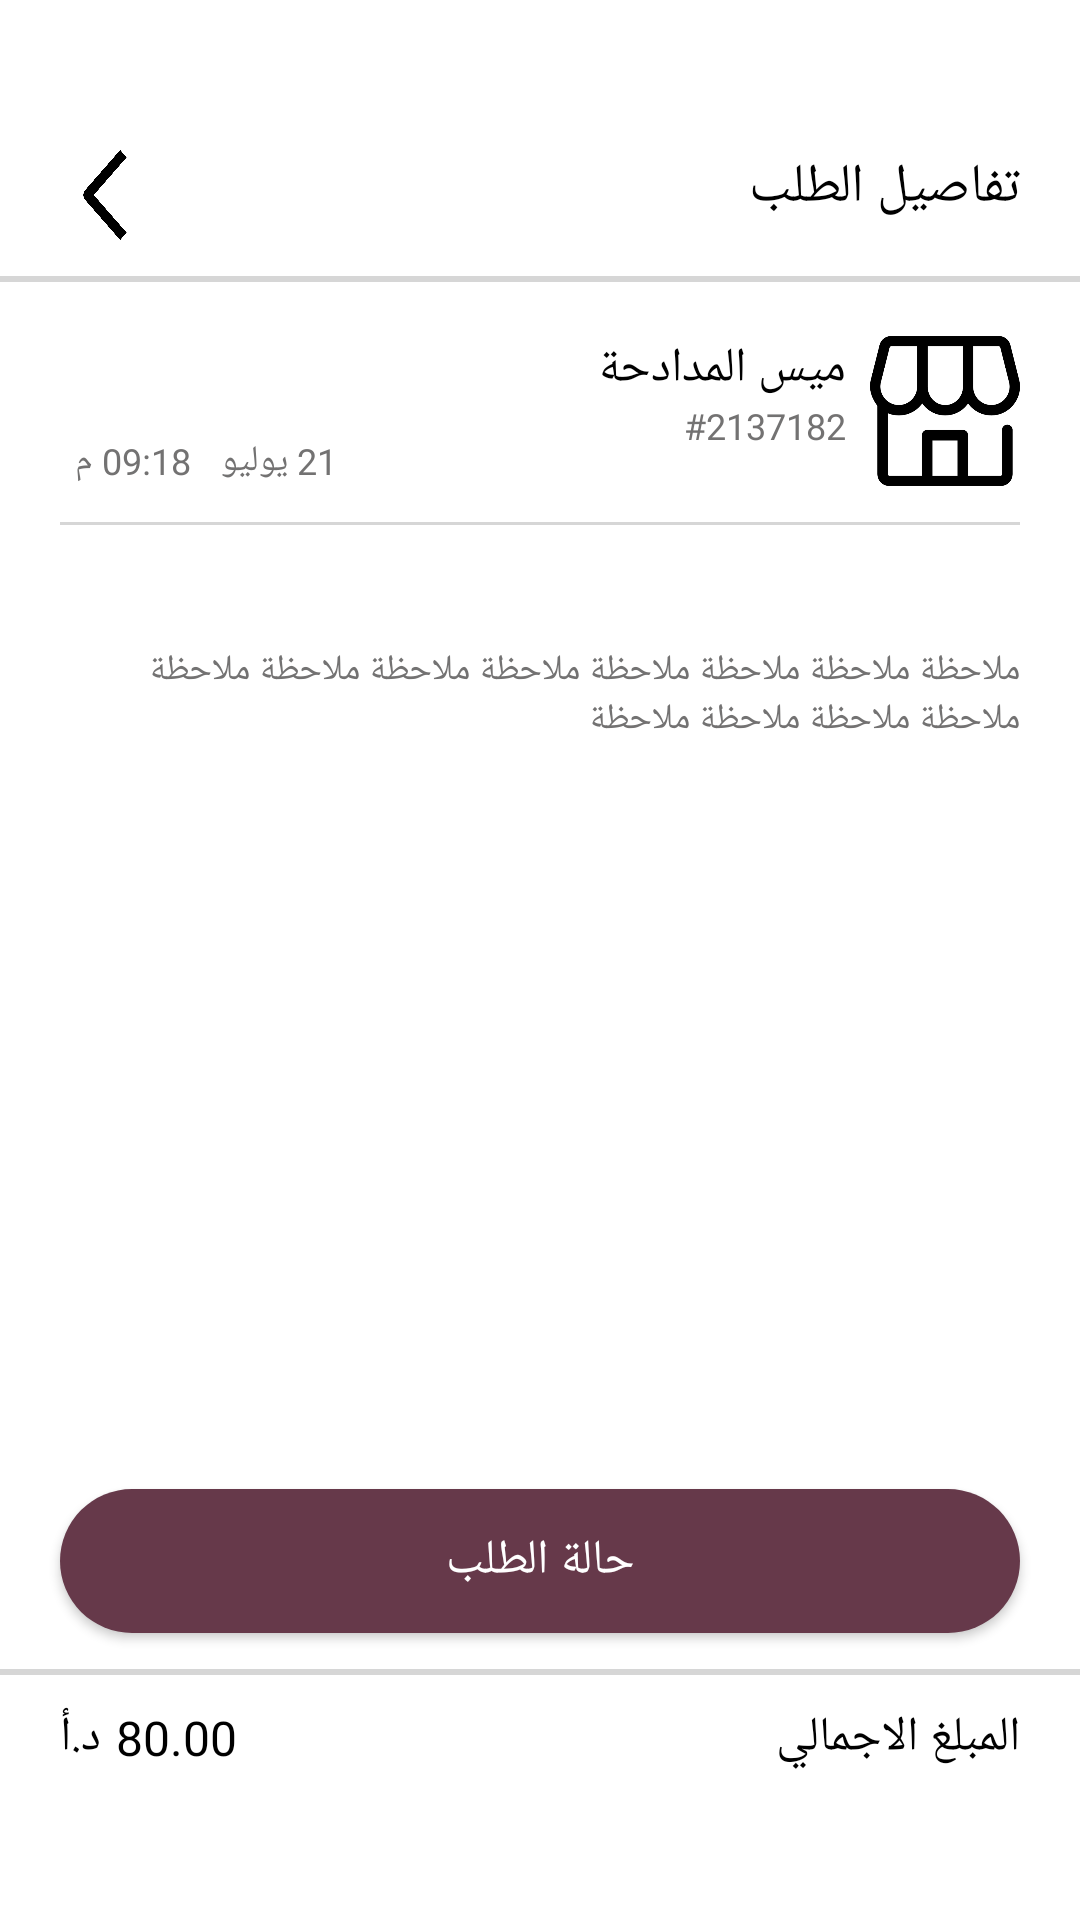

Named icons in this screenshot (1080x1920) and their bounding boxes, (x1, y1, x2, y2):
arrow to go back: (83, 150, 127, 240)
storefront: (870, 336, 1020, 486)
